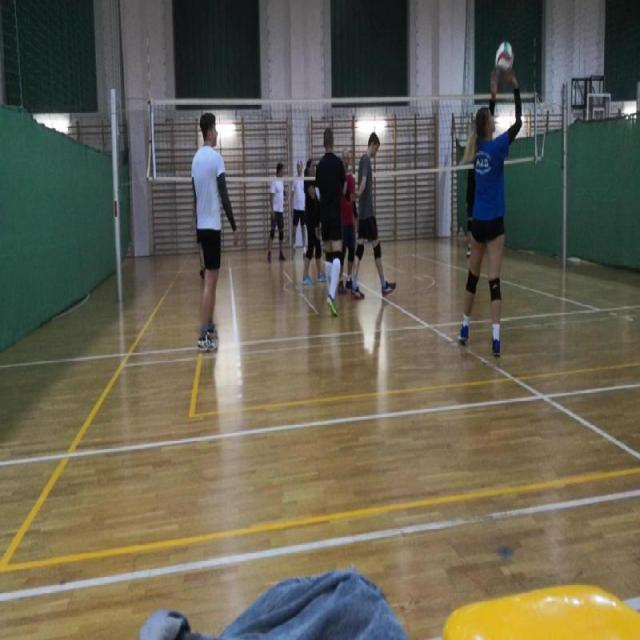volleyball: (494, 40, 515, 74)
